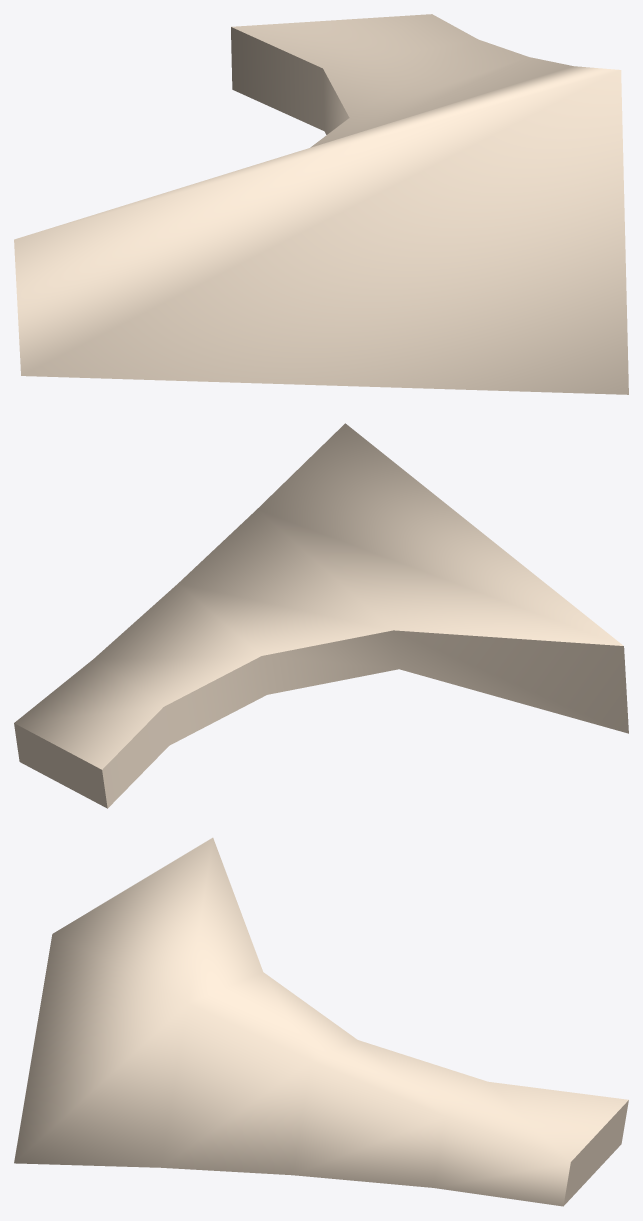
3 renders of one model, top to bottom at view 1: azimuth 30°, elevation 25°; view 2: azimuth 150°, elevation 25°; view 3: azimuth 270°, elevation 25°, orthographic. The views are drawn at different scales.
Visible parts, largest first — view 1: Object51; view 2: Object51; view 3: Object51.
Part boxes in pixels (x1=…): Object51: x1=14, y1=14, x2=628, y2=394; Object51: x1=14, y1=423, x2=628, y2=808; Object51: x1=14, y1=837, x2=628, y2=1206.
Size of the model in its own units: 111 by 49.67 by 117.
